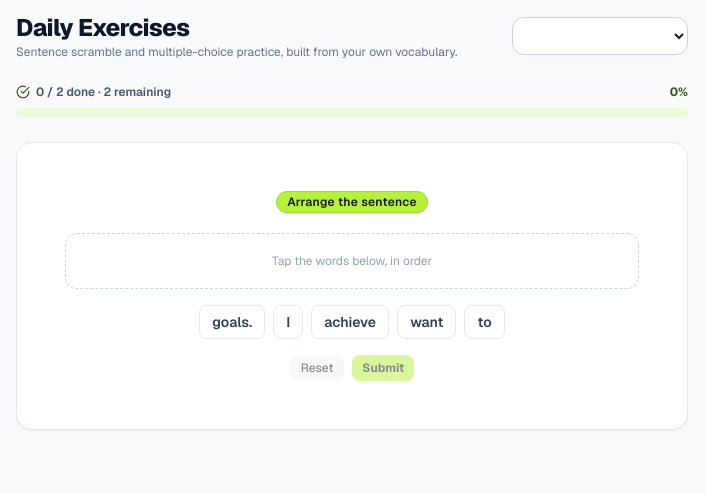
Test case: ExercisesPage › lets the learner tap words in order and submit a sentence scramble
The image size is (705, 493).
Expected: the text "Tap the words below, in order" is shown, x1=272 y1=253 x2=432 y2=269
Click the button "I" at (288, 322), box x1=273 y1=305 x2=303 y2=339
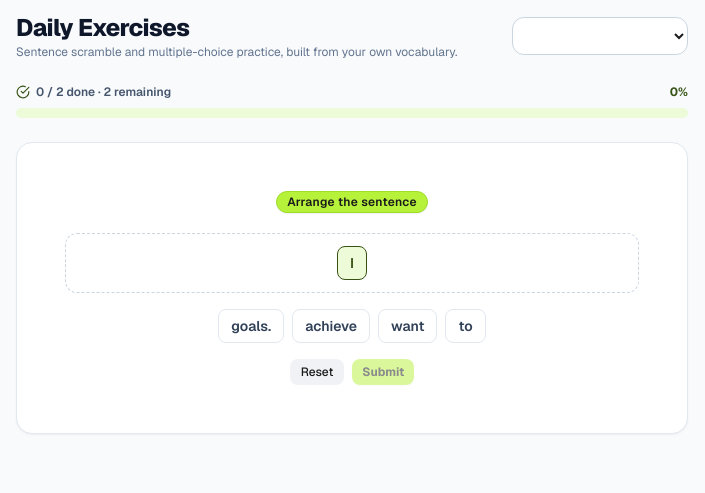
Click the button "want" at (408, 326), box x1=378 y1=309 x2=438 y2=343
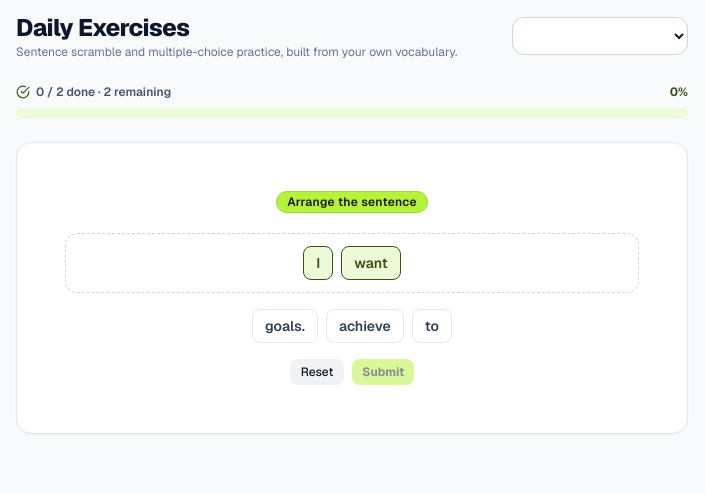
Click the button "to" at (432, 326), box x1=412 y1=309 x2=452 y2=343
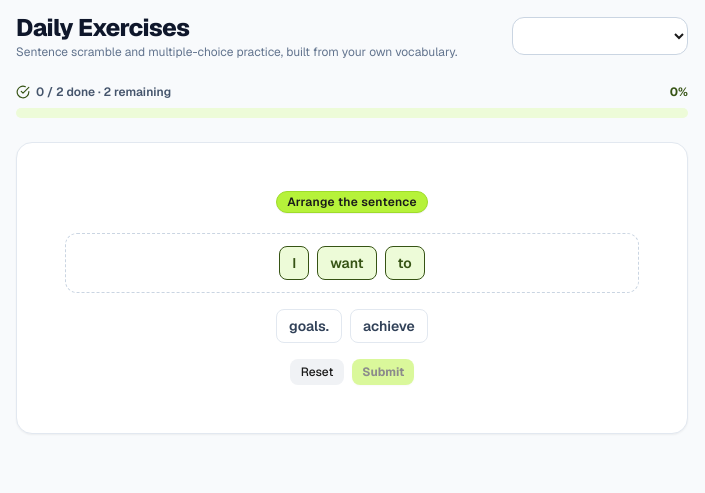
Click the button "achieve" at (389, 326), box x1=350 y1=309 x2=428 y2=343
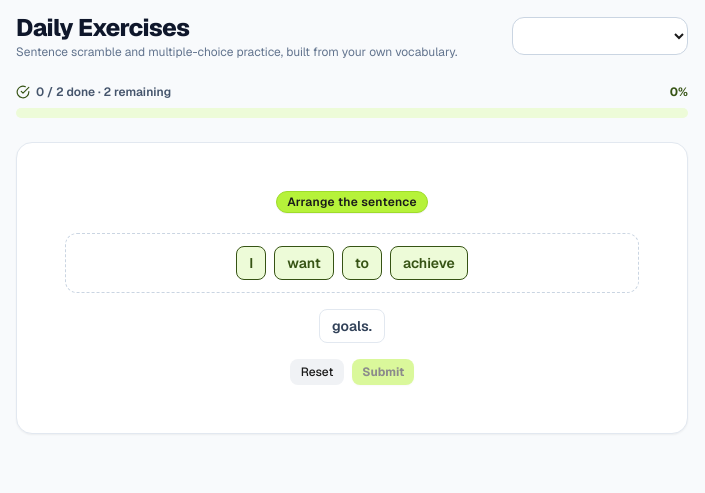
Click the button "goals." at (352, 326), box x1=319 y1=309 x2=385 y2=343
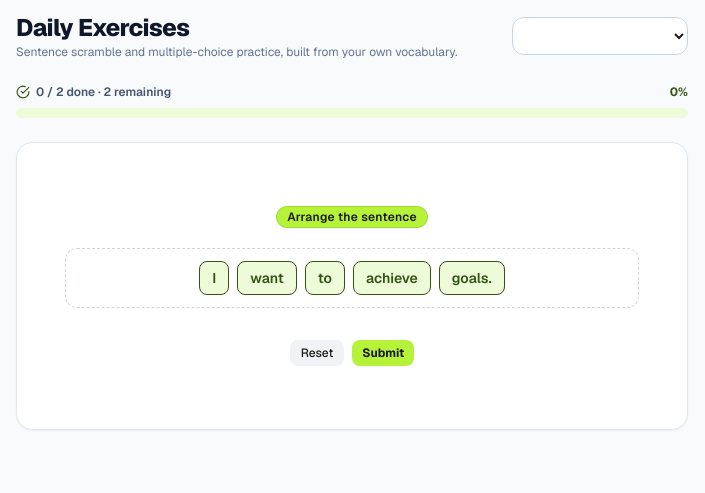
Click the button "Submit" at (383, 353), box x1=352 y1=340 x2=414 y2=366
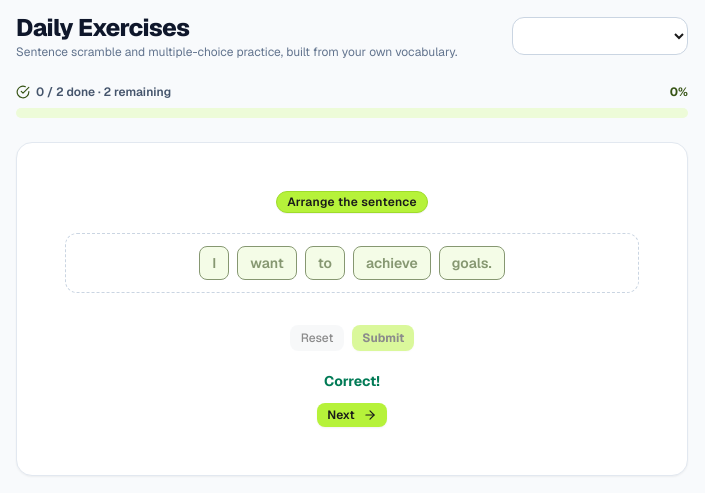
Result: the text "Correct!" is shown at x1=324 y1=371 x2=380 y2=391
